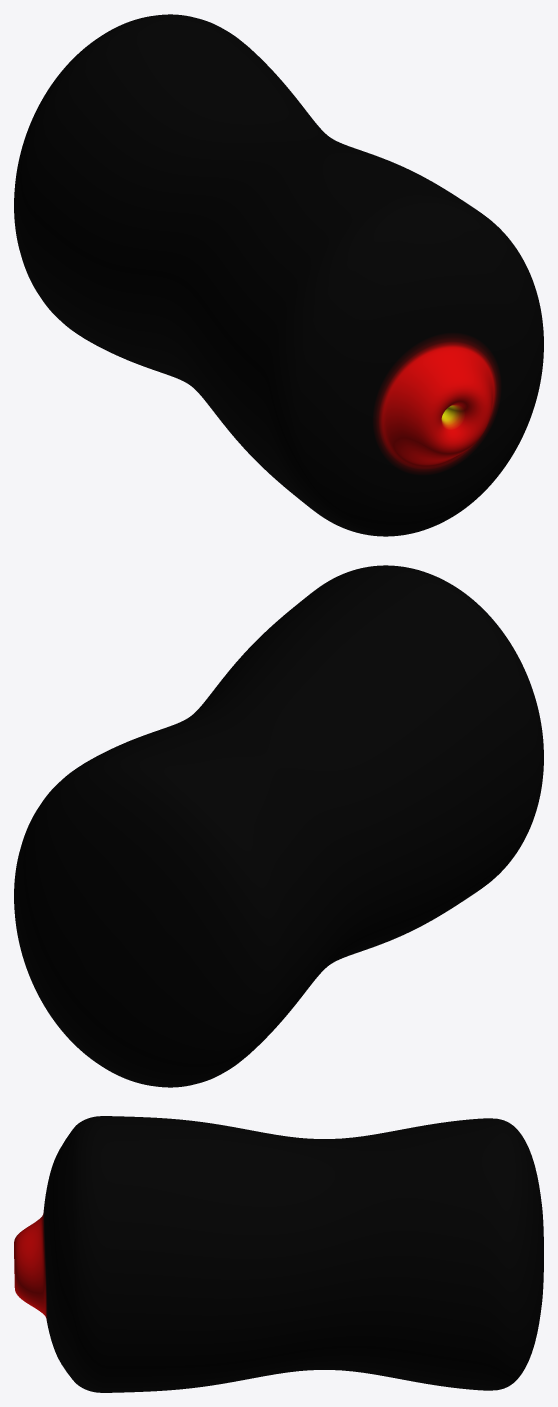
File: Poche_Sablier_Anus.fbx
3 views of the same model, one above another, from view 1: azimuth 30°, elevation 25°; view 2: azimuth 150°, elevation 25°; view 3: azimuth 270°, elevation 25° (orthographic). The views are drawn at different scales.
Visible parts, largest first — view 1: Poche_Sablier_Anus; view 2: Poche_Sablier_Anus; view 3: Poche_Sablier_Anus.
Boxes of the visible parts, x1,y1,x2,y2 form: Poche_Sablier_Anus: [14, 14, 543, 536]; Poche_Sablier_Anus: [14, 565, 543, 1087]; Poche_Sablier_Anus: [14, 1116, 543, 1392].
Bounding box in the file's own units: 0.1158 × 0.1357 × 0.2534.
